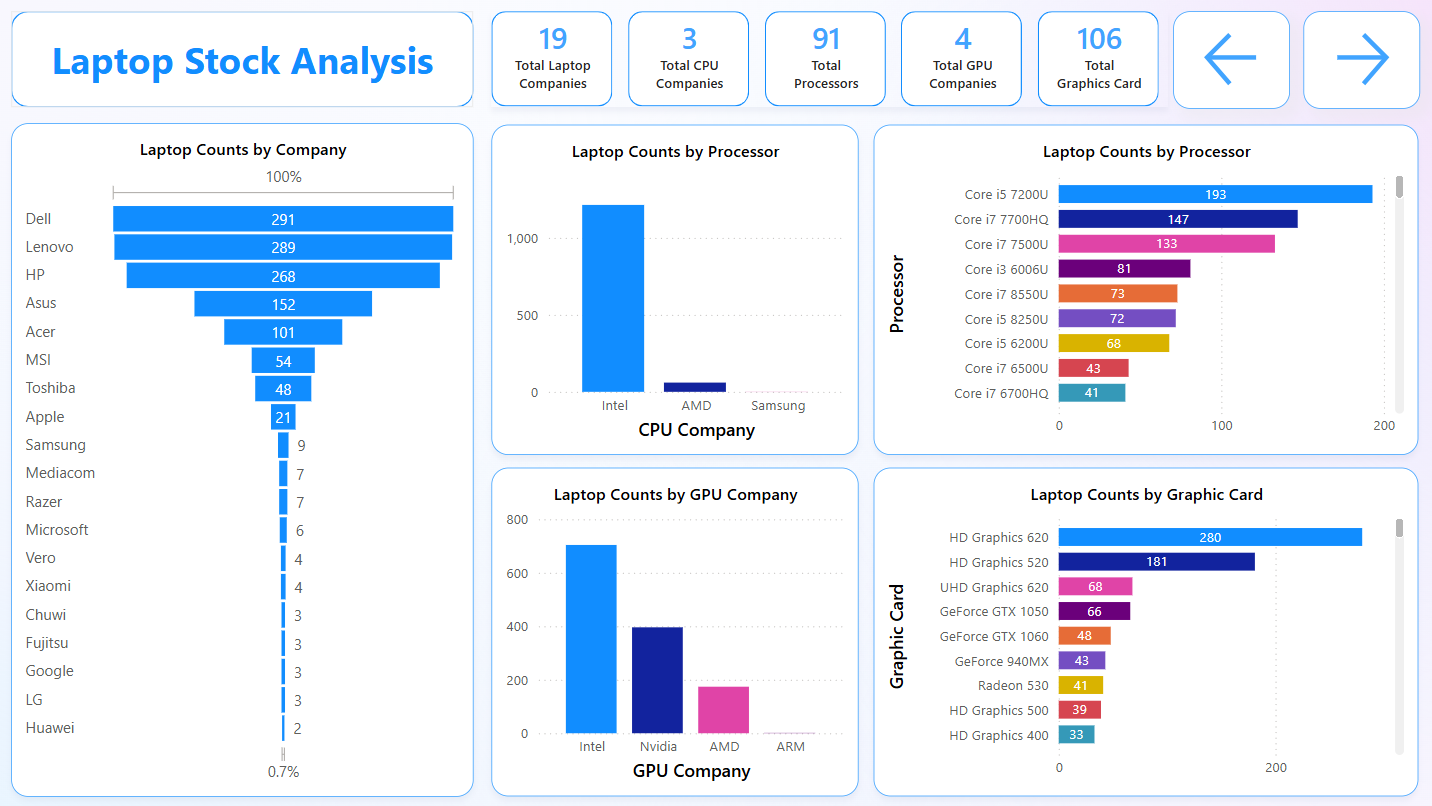

This screenshot's page, from the dashboard's own definition file:
{"tool":"powerbi","page":{"name":"Laptop Stock","canvas":[1280,720],"ordinal":1},"visuals":[{"type":"funnel","title":"Laptop Counts by Company","fields":{"Category":["laptop_prices.Company"],"Y":["CountNonNull(laptop_prices.Company)"]},"box":[10,110,412.9,601.4],"z":0},{"type":"shape","box":[10,10,412.9,85.7],"z":1000},{"type":"columnChart","title":"Laptop Counts by Processor","fields":{"Category":["laptop_prices.CPU_company"],"Y":["CountNonNull(laptop_prices.CPU_company)"],"Series":["laptop_prices.CPU_company"]},"box":[438.5,110.7,327.8,295.2],"z":2000},{"type":"barChart","title":"Laptop Counts by Processor","fields":{"Category":["laptop_prices.CPU_model"],"Y":["CountNonNull(laptop_prices.CPU_model)"],"Series":["laptop_prices.CPU_model"]},"box":[780.5,110.7,486.7,295.2],"z":3000},{"type":"columnChart","title":"Laptop Counts by GPU Company","fields":{"Category":["laptop_prices.GPU_company"],"Y":["CountNonNull(laptop_prices.GPU_company)"],"Series":["laptop_prices.GPU_company"]},"box":[438.5,417.2,327.8,293.7],"z":4000},{"type":"barChart","title":"Laptop Counts by Graphic Card","fields":{"Category":["laptop_prices.GPU_model"],"Y":["CountNonNull(laptop_prices.GPU_model)"],"Series":["laptop_prices.GPU_model"]},"box":[780.5,417.2,486.7,293.7],"z":5000},{"type":"cardVisual","fields":{"Data":["Count(laptop_prices.Company)","Count(laptop_prices.CPU_company)","Count(laptop_prices.CPU_model)","Count(laptop_prices.GPU_company)","Count(laptop_prices.GPU_model)"]},"box":[439.1,10.1,604.3,85.5],"z":6000},{"type":"actionButton","box":[1047.8,10.1,104.3,87],"z":7000},{"type":"actionButton","box":[1163.8,10.1,104.3,87],"z":8000}]}

Visuals, with their boxes in screenshot pixels (x1, y1, x2, y2), scaled from the page's 1280x720 canvas onto the 1432x806 screenshot:
"Laptop Counts by Company" funnel: bbox(11, 123, 473, 796)
shape: bbox(11, 11, 473, 107)
"Laptop Counts by Processor" columnChart: bbox(491, 124, 857, 454)
"Laptop Counts by Processor" barChart: bbox(873, 124, 1418, 454)
"Laptop Counts by GPU Company" columnChart: bbox(491, 467, 857, 796)
"Laptop Counts by Graphic Card" barChart: bbox(873, 467, 1418, 796)
cardVisual - Count(laptop_prices.Company) x Count(laptop_prices.CPU_company): bbox(491, 11, 1167, 107)
actionButton: bbox(1172, 11, 1289, 109)
actionButton: bbox(1302, 11, 1419, 109)
